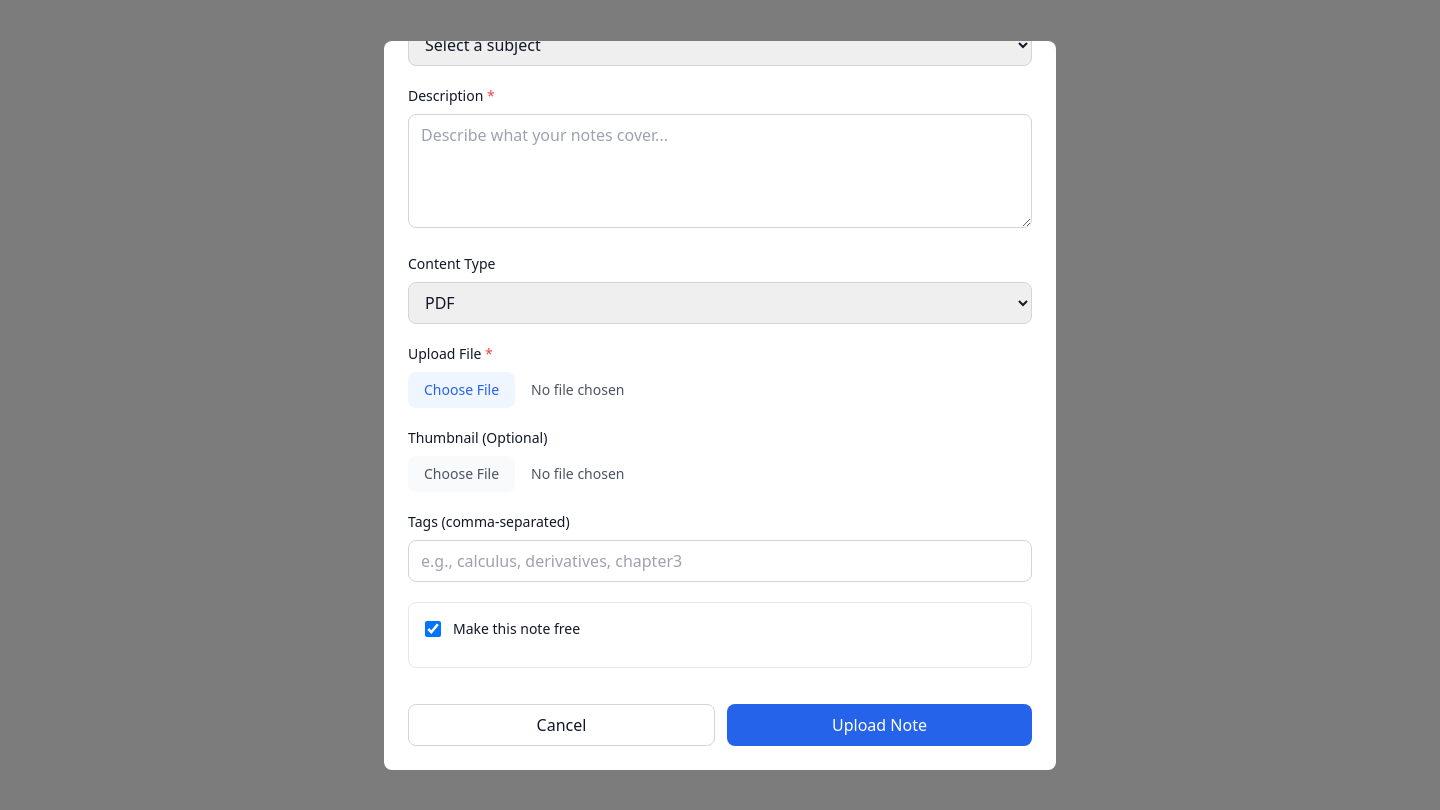
UploadModal Component › toggles free/paid pricing options
(page scrolled)
Expected: the field labelled "Price (USD)" is not shown
Note: Uncheck free checkbox
Click the checkbox labelled "Make this note free". click: (433, 628)
box: [425,620,441,636]
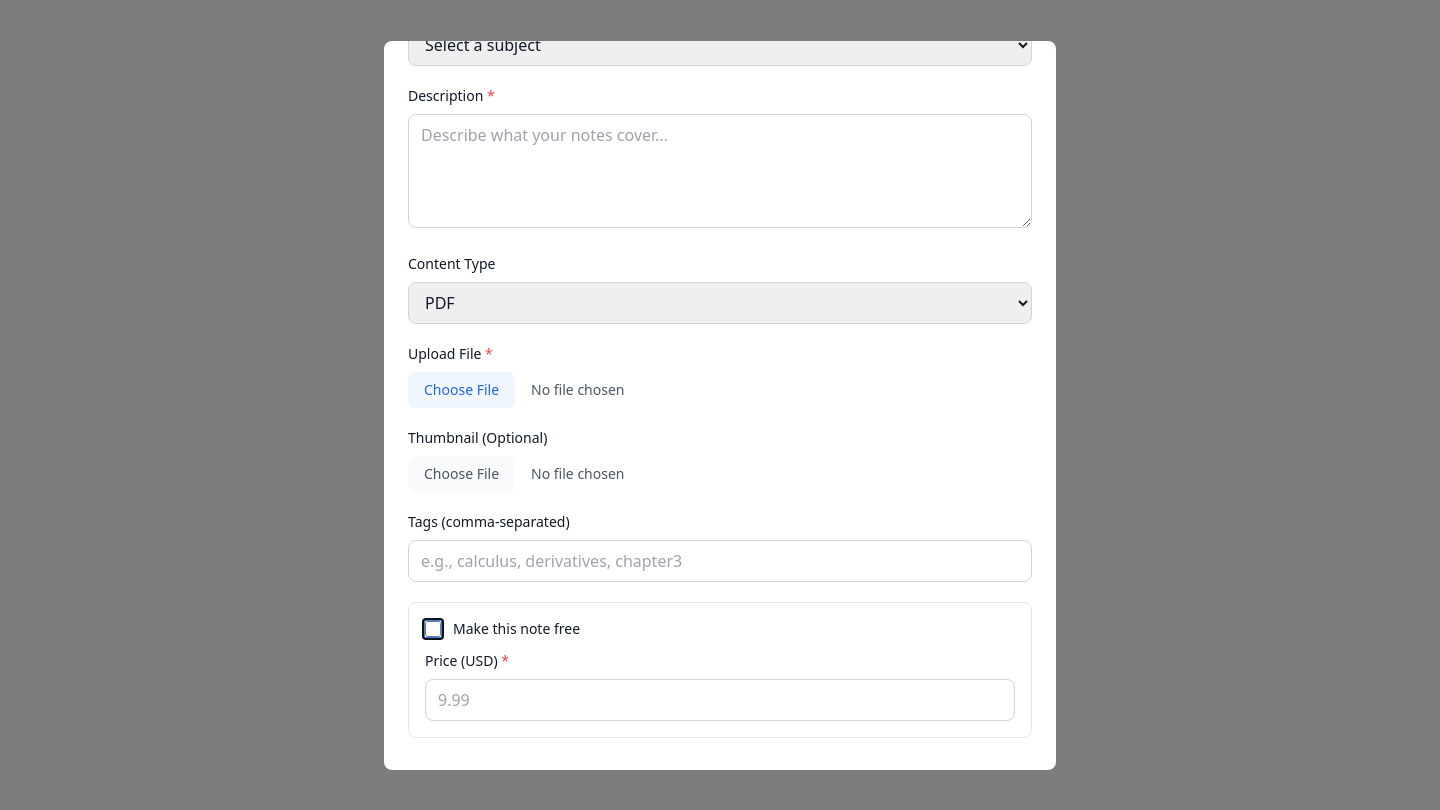
Expected: the checkbox labelled "Make this note free" is not checked, [425,620,441,636]
Expected: the number field labelled "Price (USD) *" is shown, [425,678,1015,720]
